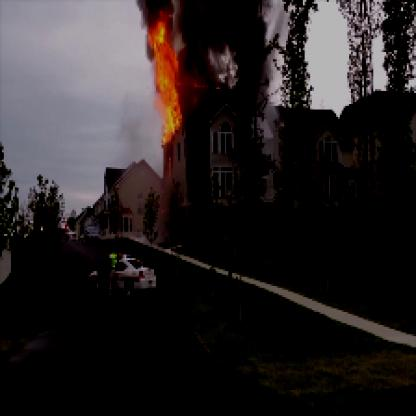Fire: (141, 2, 197, 145)
Smoke: (171, 2, 275, 108)
